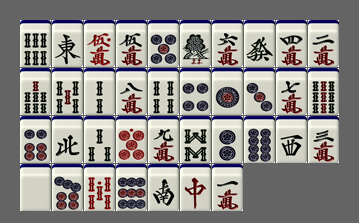0m: (84, 20, 115, 67)
0p: (116, 116, 147, 163)
0s: (84, 164, 115, 211)
1m: (212, 164, 243, 211)
1p: (212, 68, 243, 115)
1s: (180, 20, 211, 67)
1z: (52, 20, 83, 67)
2m: (308, 20, 339, 67)
2p: (212, 116, 243, 163)
2s: (84, 68, 115, 115)
2z: (148, 164, 179, 211)
3m: (308, 116, 339, 163)
3p: (244, 68, 275, 115)
3s: (84, 116, 115, 163)
3z: (276, 116, 307, 163)
4m: (276, 20, 307, 67)
4p: (180, 68, 211, 115)
4s: (148, 68, 179, 115)
4z: (52, 116, 83, 163)
5m: (116, 20, 147, 67)
5p: (148, 20, 179, 67)
5s: (52, 68, 83, 115)
5z: (20, 164, 51, 211)
6m: (212, 20, 243, 67)
6p: (20, 116, 51, 163)
6s: (20, 20, 51, 67)
6z: (244, 20, 275, 67)
7m: (276, 68, 307, 115)
7p: (52, 164, 83, 211)
7s: (20, 68, 51, 115)
7z: (180, 164, 211, 211)
8m: (116, 68, 147, 115)
8p: (244, 116, 275, 163)
8s: (180, 116, 211, 163)
9m: (148, 116, 179, 163)
9p: (116, 164, 147, 211)
9s: (308, 68, 339, 115)
